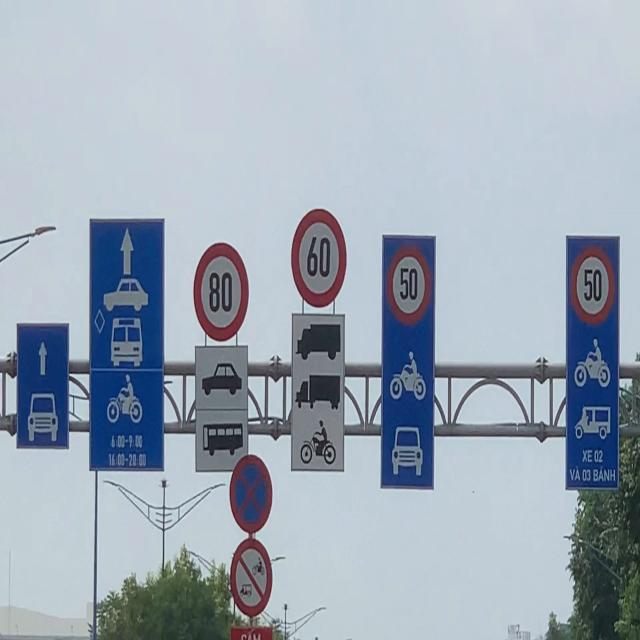Cam con lai: (230, 538, 273, 619)
Cam dung va do: (226, 454, 274, 540)
Toc do toi da: (193, 236, 251, 334), (294, 210, 352, 307), (387, 240, 437, 328), (570, 246, 614, 334)
